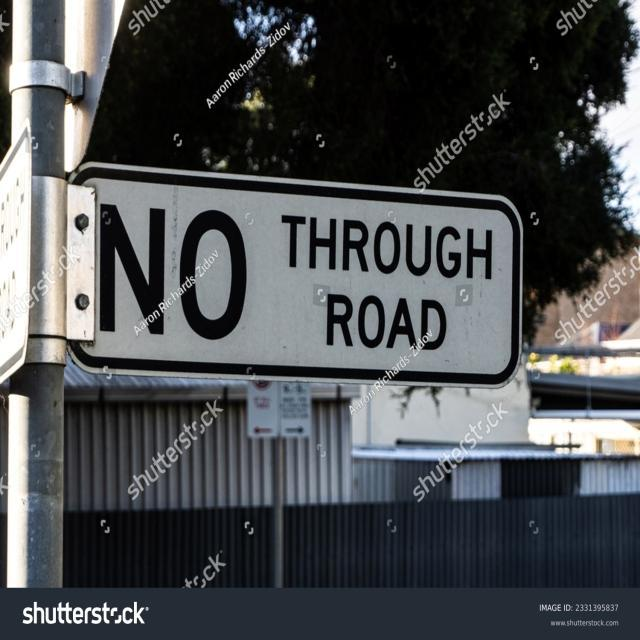Traffic sign: (57, 153, 528, 394)
